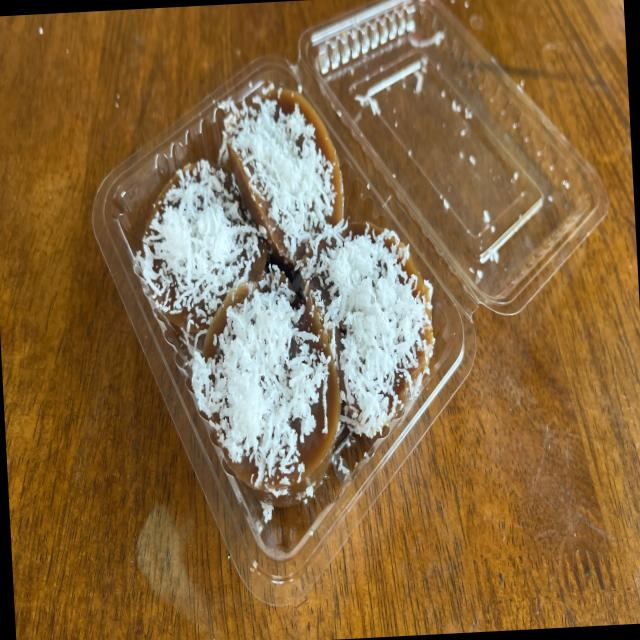Kuih lompang: (192, 271, 341, 507), (301, 223, 434, 438), (138, 159, 268, 336), (224, 90, 344, 268)
